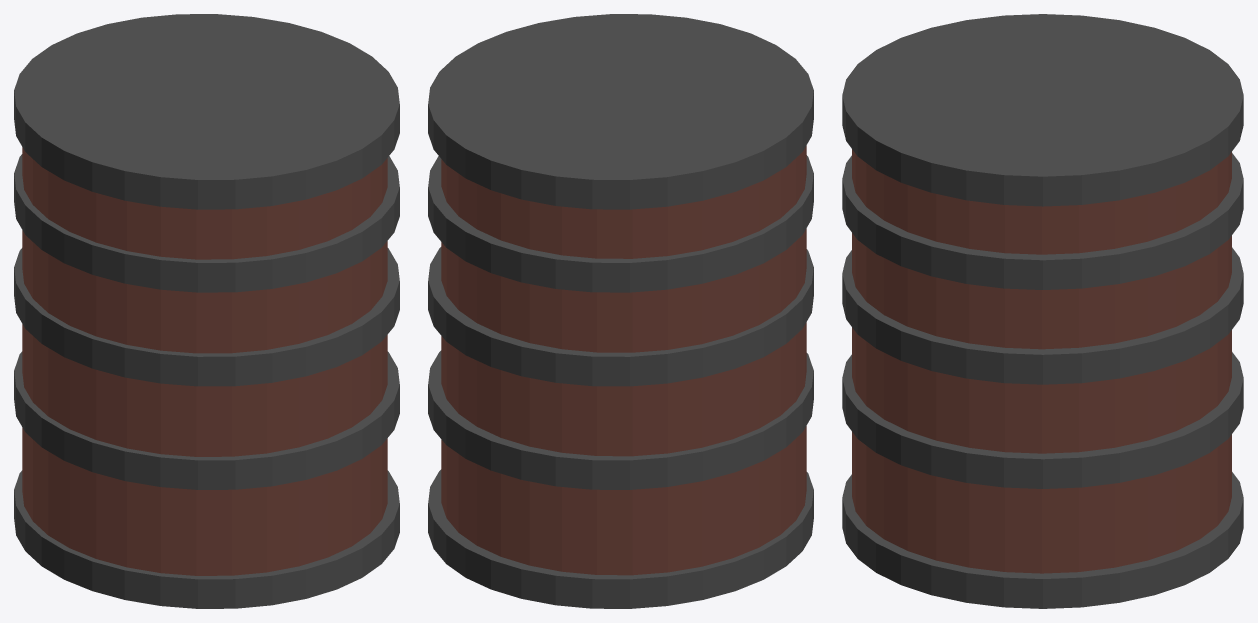
The model's file is woodbarrel1.fbx.
3 renders of one model, left to right at view 1: azimuth 30°, elevation 25°; view 2: azimuth 150°, elevation 25°; view 3: azimuth 270°, elevation 25°, orthographic.
Visible parts, largest first — view 1: Cylinder, Cylinder.001, Cylinder.004, Cylinder.005, Cylinder.003, Cylinder.006; view 2: Cylinder, Cylinder.001, Cylinder.004, Cylinder.005, Cylinder.003, Cylinder.006; view 3: Cylinder, Cylinder.001, Cylinder.004, Cylinder.006, Cylinder.005, Cylinder.003.
Part boxes in pixels (box(x1,y1,x2,y2)): Cylinder: box(22, 147, 387, 575); Cylinder.001: box(14, 14, 399, 209); Cylinder.004: box(14, 248, 399, 386); Cylinder.005: box(14, 154, 399, 292); Cylinder.003: box(14, 470, 399, 608); Cylinder.006: box(14, 351, 399, 489); Cylinder: box(441, 145, 806, 575); Cylinder.001: box(428, 14, 813, 209); Cylinder.004: box(428, 247, 813, 386); Cylinder.005: box(428, 155, 813, 292); Cylinder.003: box(428, 469, 813, 608); Cylinder.006: box(428, 350, 813, 489); Cylinder: box(852, 149, 1231, 573); Cylinder.001: box(842, 14, 1243, 206); Cylinder.004: box(842, 247, 1243, 384); Cylinder.006: box(842, 352, 1243, 488); Cylinder.005: box(842, 153, 1243, 289); Cylinder.003: box(842, 472, 1243, 608).
Size of the model in its own units: 541 by 671 by 564.
